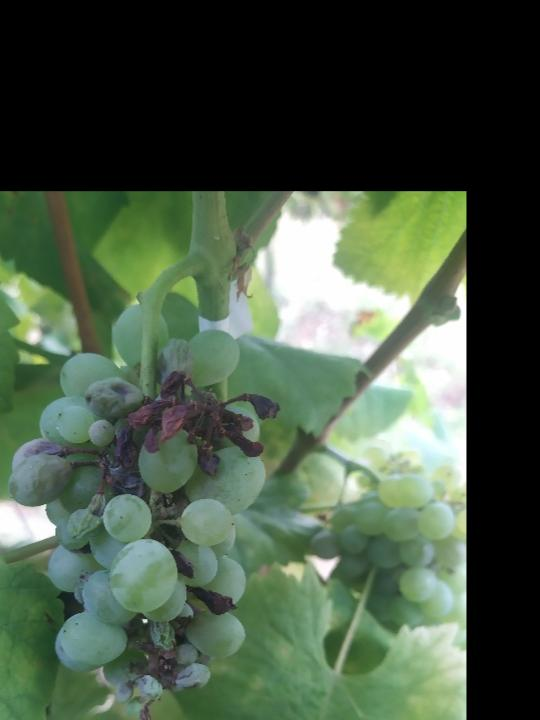grape: (5, 299, 279, 720)
